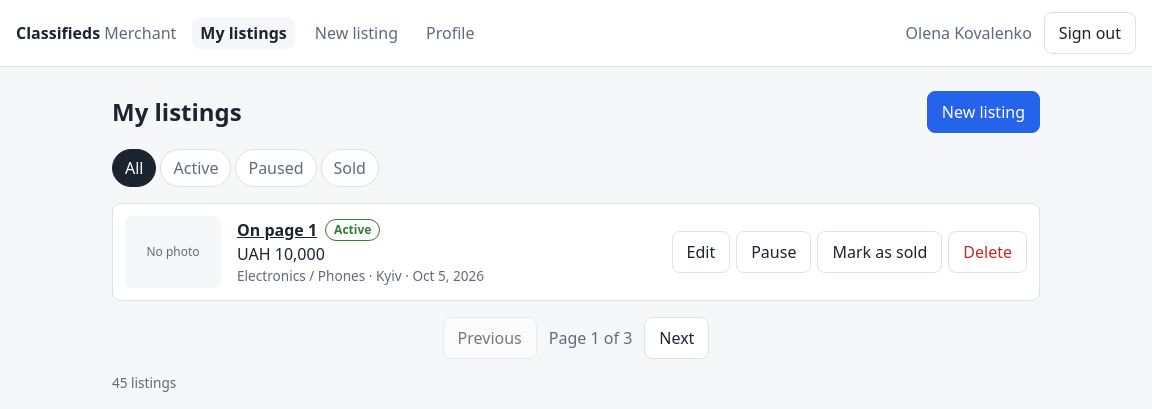
Test: my listings page › pages through listings
Expected: the text "Page 1 of 3" is shown, [549,326,632,350]
Expected: the button "Previous" is disabled, [443,317,537,359]
Click the button "Next" at (677, 338), box [644,317,709,359]
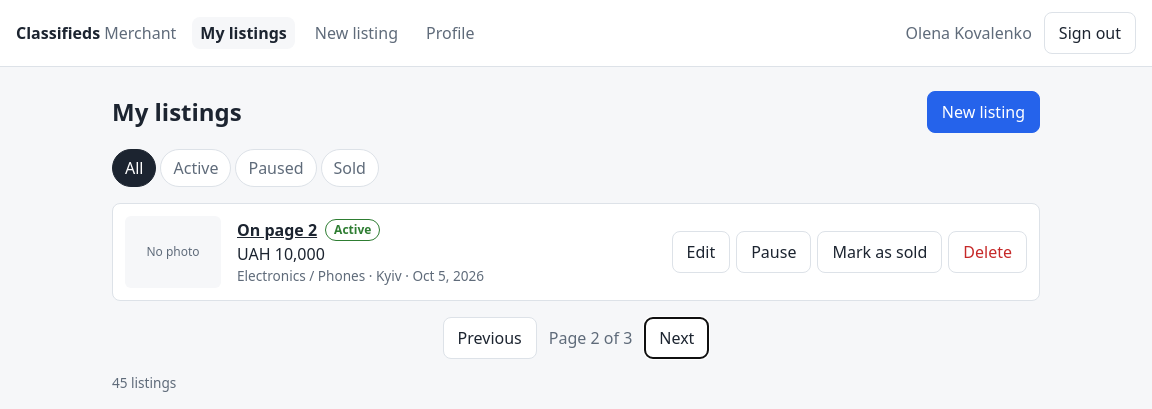
Now the list item "On page 2" is shown, box [112,203,1040,301]
